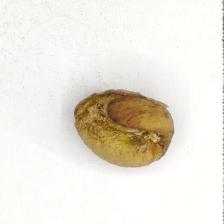NG: (76, 101, 166, 166)
